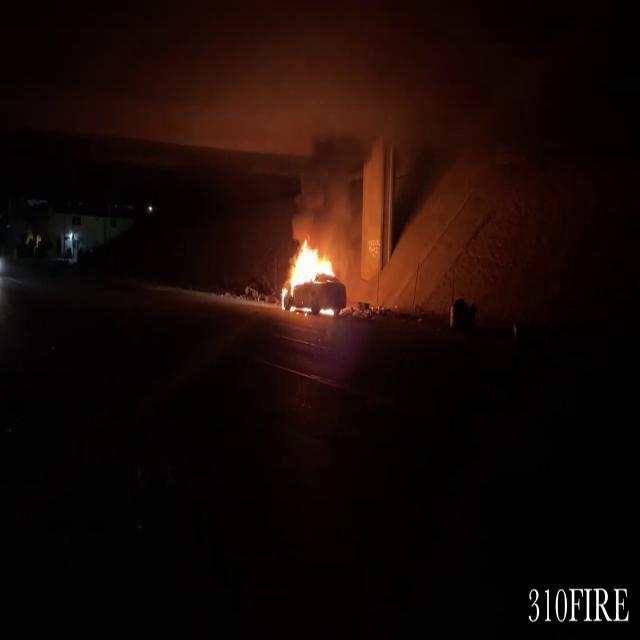Fire: (278, 230, 346, 314)
